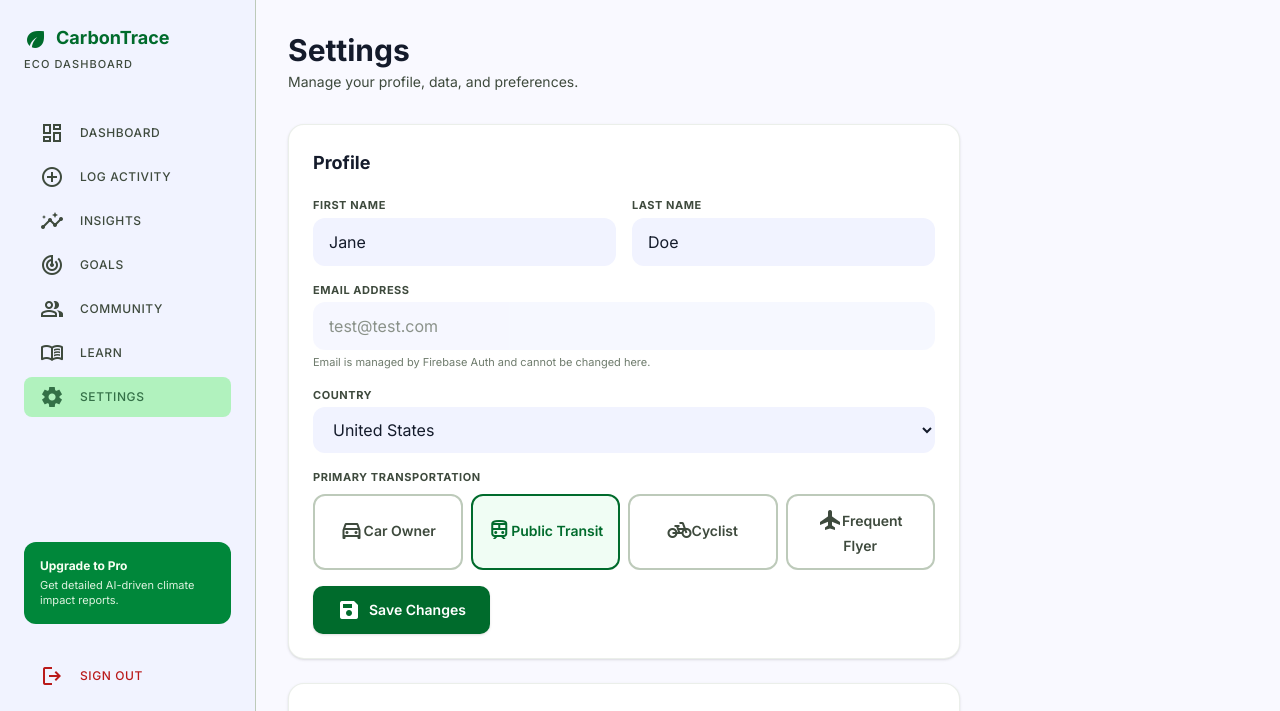
Test: SettingsPage › shows success toast after save
Click the button "Save Changes".
click(401, 610)  # box 313,586 -> 490,634
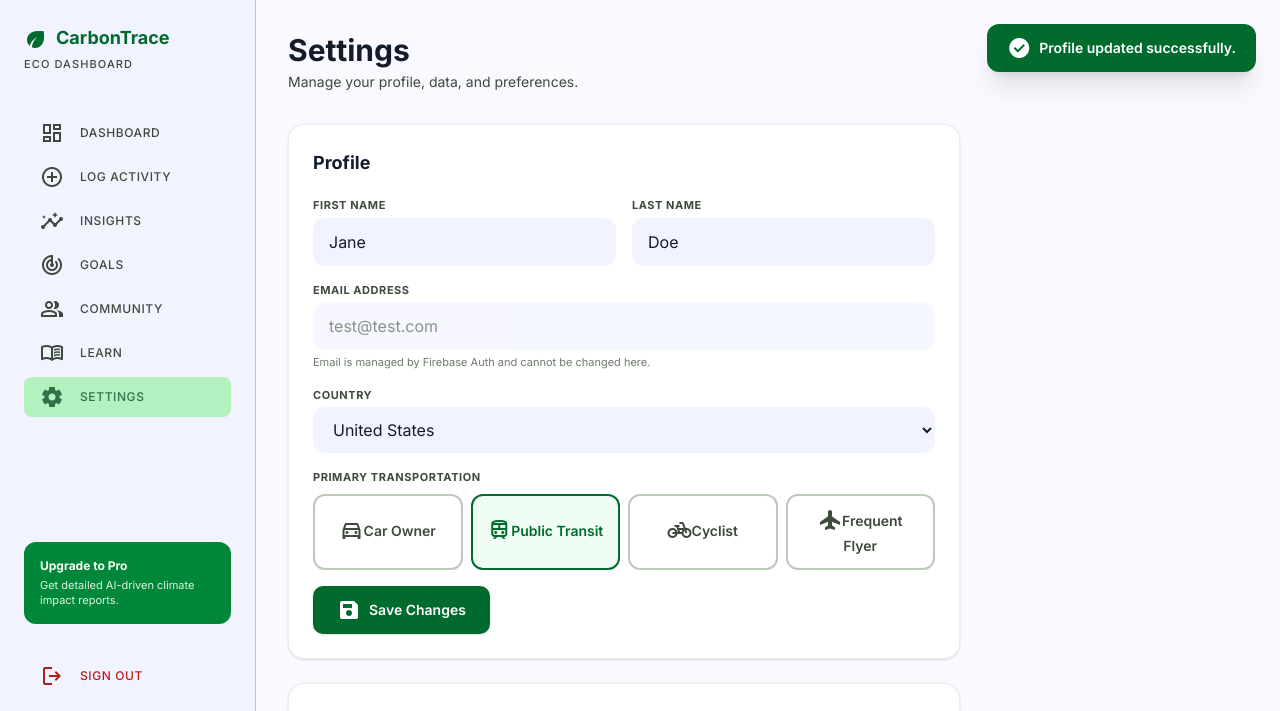
Now the message shows "Profile updated", box 1039,39 -> 1236,56
